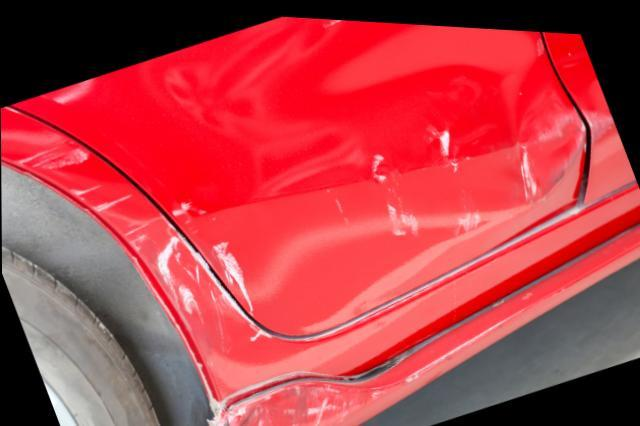dislocated part: (537, 25, 595, 195)
scratch: (14, 137, 240, 322), (365, 121, 542, 237), (401, 298, 528, 382), (172, 190, 254, 315), (225, 382, 372, 426)
